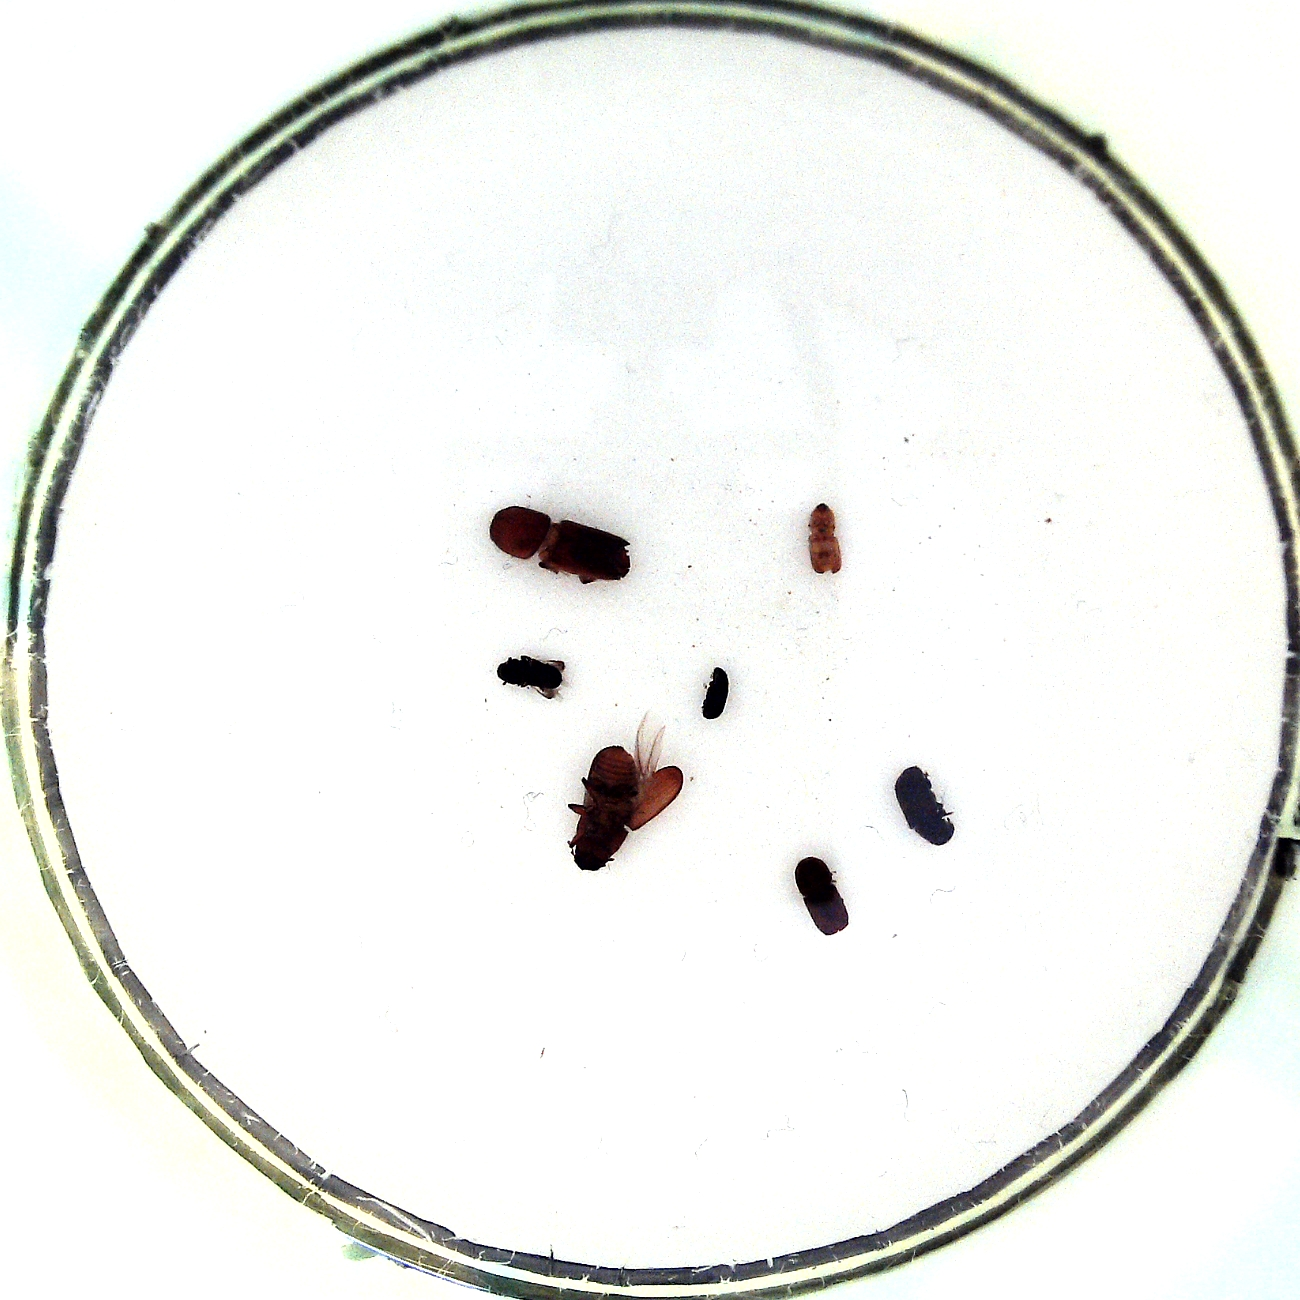Boerner: (486, 501, 636, 588)
Leconte: (565, 710, 692, 879)
Linnaeus: (789, 850, 856, 940)
acuminatus: (799, 501, 848, 579)
armandi: (887, 760, 961, 849)
coleoptera: (487, 645, 571, 706), (695, 665, 736, 721)
